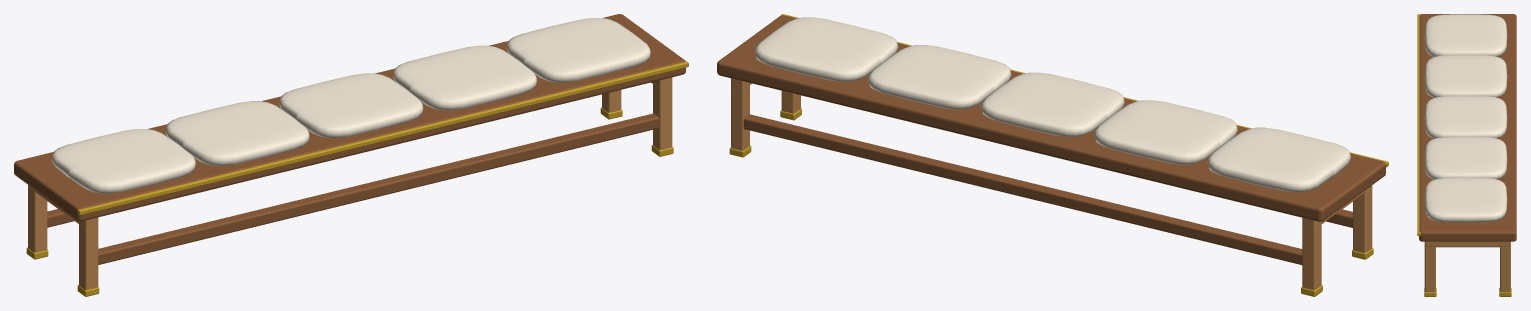
Rendered from lobby-bench.glb.
3 views of the same model, side by side, from view 1: azimuth 30°, elevation 25°; view 2: azimuth 150°, elevation 25°; view 3: azimuth 270°, elevation 25° (orthographic). The views are drawn at different scales.
Parts seen in each view (by area): view 1: seat.plank, stretcher.f, cushion.0, cushion.3, cushion.2, cushion.1, cushion.4, seat.nose, leg.l.f, leg.r.f, leg.l.b; view 2: seat.plank, stretcher.b, cushion.0, cushion.1, cushion.4, cushion.2, cushion.3, leg.l.b, leg.l.f, leg.r.b; view 3: seat.plank, cushion.4, cushion.0, cushion.1, cushion.2, cushion.3, seat.nose, rail.end.r, leg.r.f, leg.r.b.
Boxes of the visible parts, x1,y1,x2,y2 form: seat.plank: (14, 14, 685, 221); stretcher.f: (98, 113, 659, 264); cushion.0: (52, 129, 195, 193); cushion.3: (393, 45, 537, 110); cushion.2: (279, 73, 423, 137); cushion.1: (165, 101, 309, 165); cushion.4: (506, 18, 650, 82); seat.nose: (77, 61, 688, 215); leg.l.f: (79, 224, 98, 289); leg.r.f: (653, 84, 672, 149); leg.l.b: (28, 187, 47, 252); seat.plank: (717, 15, 1385, 221); stretcher.b: (743, 114, 1302, 264); cushion.0: (1207, 127, 1350, 192); cushion.1: (1094, 100, 1237, 164); cushion.4: (754, 17, 898, 81); cushion.2: (981, 72, 1124, 136); cushion.3: (868, 45, 1011, 109); leg.l.b: (1302, 224, 1321, 290); leg.l.f: (1353, 187, 1372, 252); leg.r.b: (731, 85, 749, 150); seat.plank: (1419, 14, 1516, 241); cushion.4: (1424, 177, 1507, 222); cushion.0: (1424, 14, 1507, 56); cushion.1: (1424, 55, 1507, 97); cushion.2: (1424, 96, 1507, 138); cushion.3: (1424, 137, 1507, 179); seat.nose: (1417, 14, 1420, 236); rail.end.r: (1424, 241, 1510, 247); leg.r.f: (1424, 246, 1435, 292); leg.r.b: (1500, 246, 1510, 292).
Bounding box in the file's own units: 2.76 × 0.46 × 0.53.
